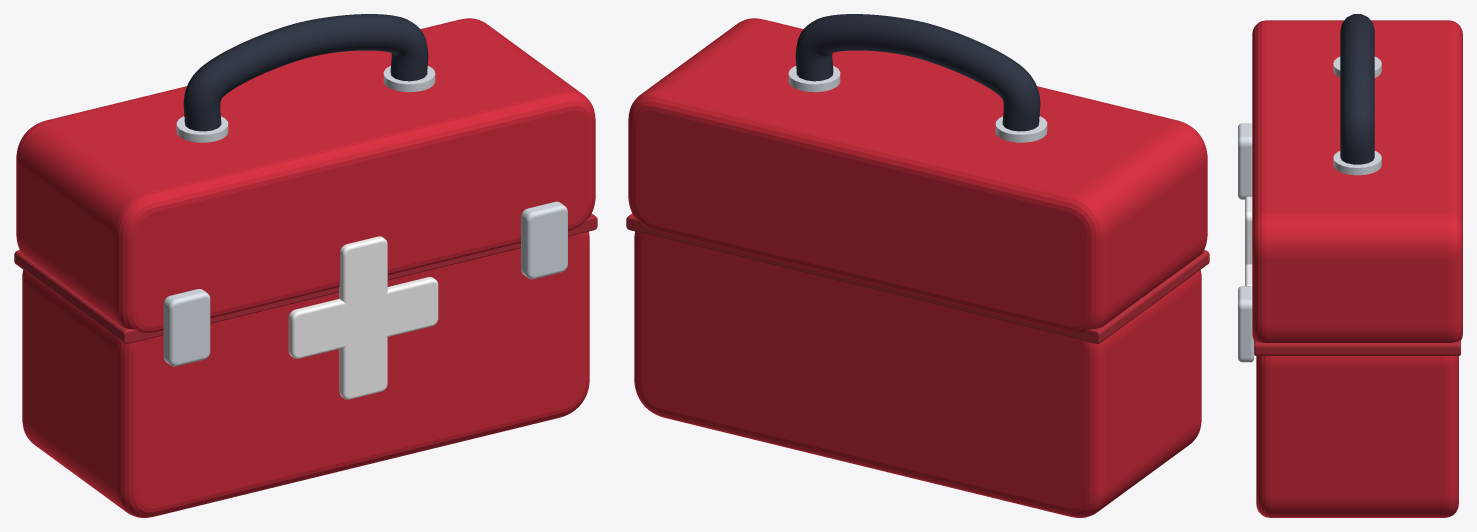
The model's file is first-aid-kit.glb.
The picture shows the model from 3 angles, left to right: view 1: azimuth 30°, elevation 25°; view 2: azimuth 150°, elevation 25°; view 3: azimuth 270°, elevation 25°; orthographic projection. The views are drawn at different scales.
Size of the model in its own units: 3.18 by 2.6 by 1.39.
